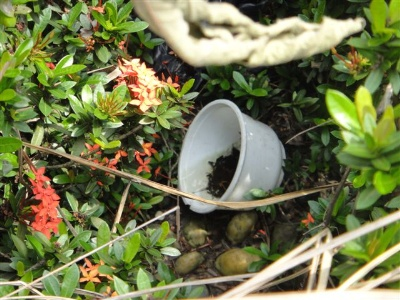bowl: (176, 98, 287, 213)
